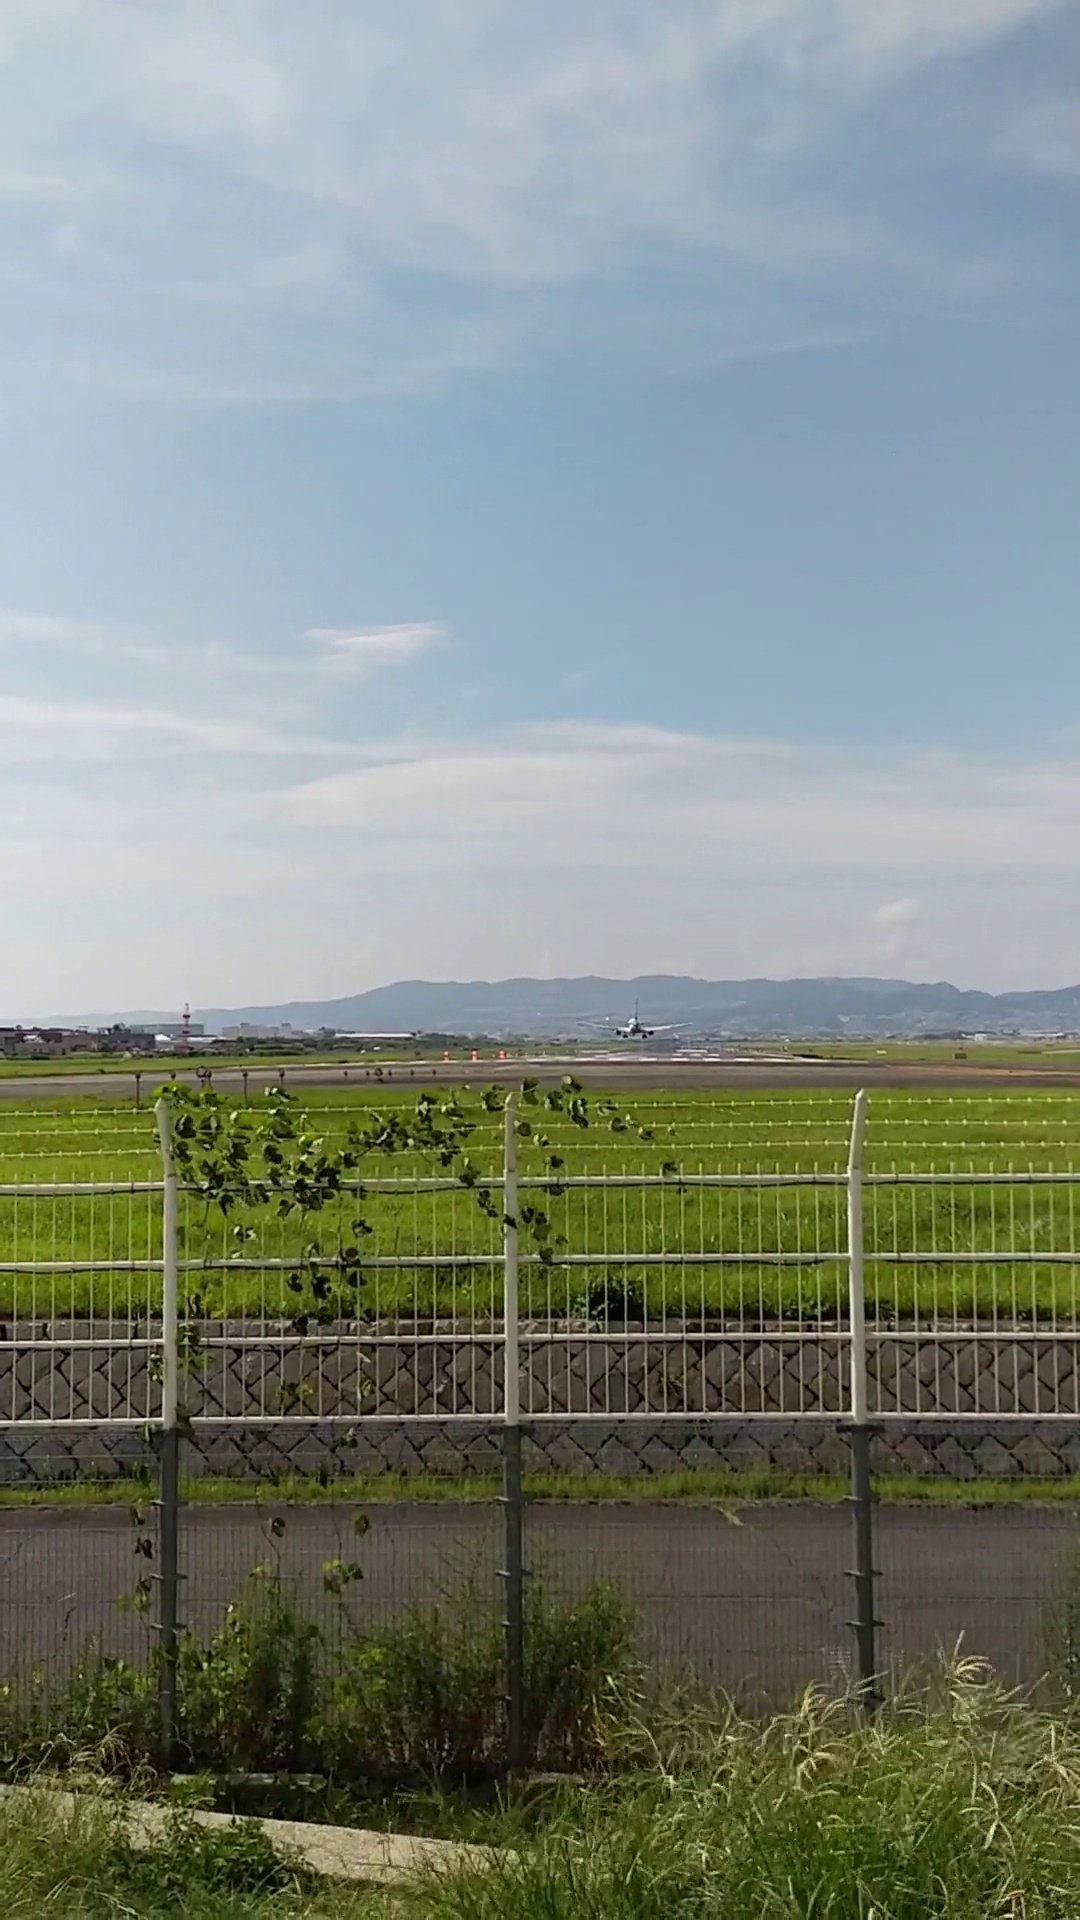plane: (574, 994, 694, 1038)
